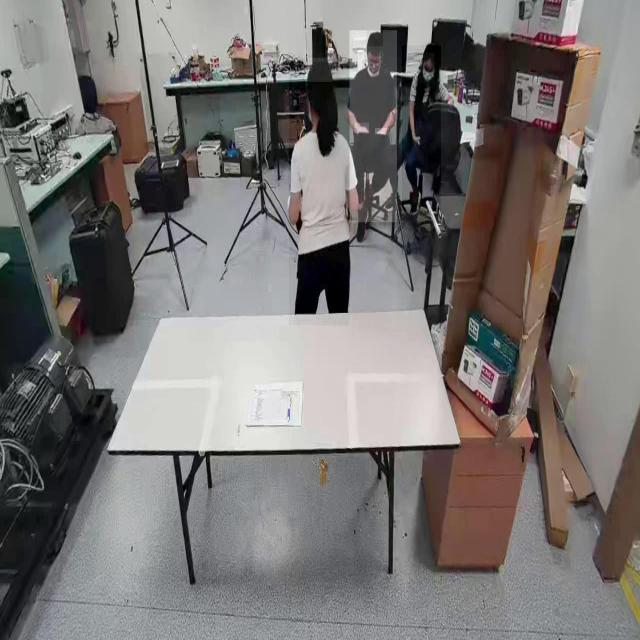face_mask: (421, 52, 435, 84)
hand_noglove: (354, 123, 370, 134), (412, 132, 421, 146), (375, 128, 387, 135)
head_nohelmet: (305, 58, 333, 82), (366, 30, 384, 47), (423, 42, 439, 54)
person: (289, 62, 350, 326), (350, 30, 398, 223), (402, 46, 442, 212)
shoes: (352, 195, 372, 247)
